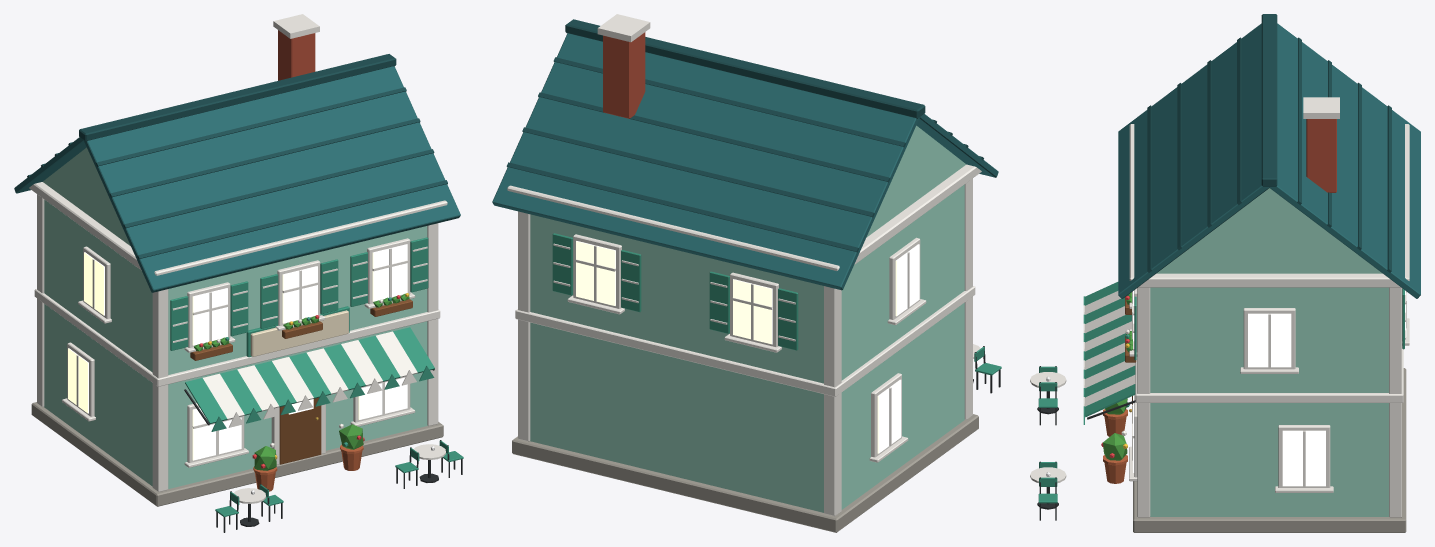
Rendered from harbor_house_cafe_v01.glb.
3 views of the same model, side by side, from view 1: azimuth 30°, elevation 25°; view 2: azimuth 150°, elevation 25°; view 3: azimuth 270°, elevation 25° (orthographic). The views are drawn at different scales.
Visible parts, largest first — view 1: house_cafe; view 2: house_cafe; view 3: house_cafe.
Boxes of the visible parts, bbox=[...] form: house_cafe: bbox=[14, 14, 463, 532]; house_cafe: bbox=[492, 14, 1001, 532]; house_cafe: bbox=[1030, 14, 1420, 532].
Size of the model in its own units: 9 by 10.07 by 9.01.
